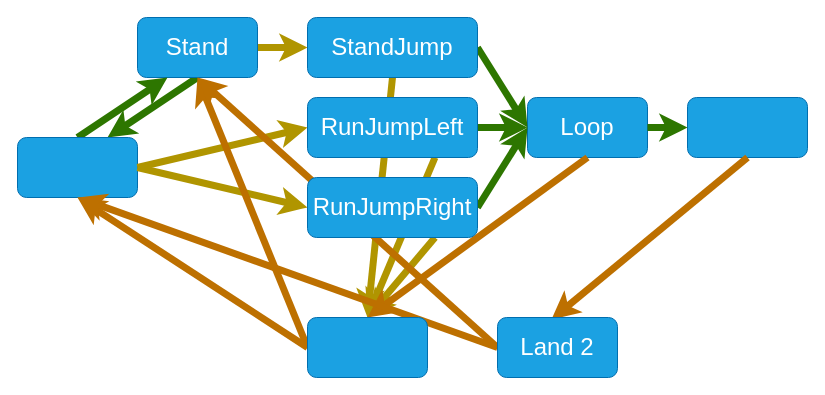
The diagram is 825 pixels wide and 395 high, and some of its shapes have lost their labels. The shapes that lost their labels are listed below. From the top down, each one's box as (x1, y1, x2, y2) in pixels, then its label:
(686, 96, 808, 158): Loop 2
(16, 136, 138, 198): Moving
(306, 316, 428, 378): Land 1
